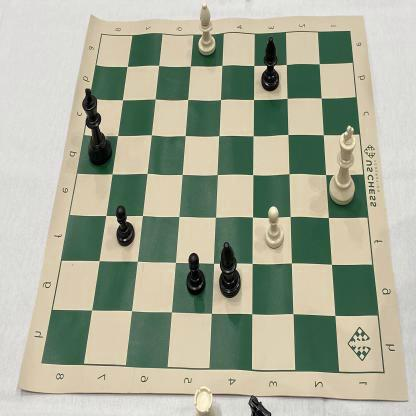black-bishop: (216, 236, 243, 305), (258, 33, 282, 95)
black-king: (76, 82, 116, 172)
black-pawn: (183, 249, 209, 298), (113, 201, 137, 253)
white-bishop: (192, 0, 220, 60)
white-king: (324, 122, 362, 209)
white-pawn: (262, 201, 287, 253)
